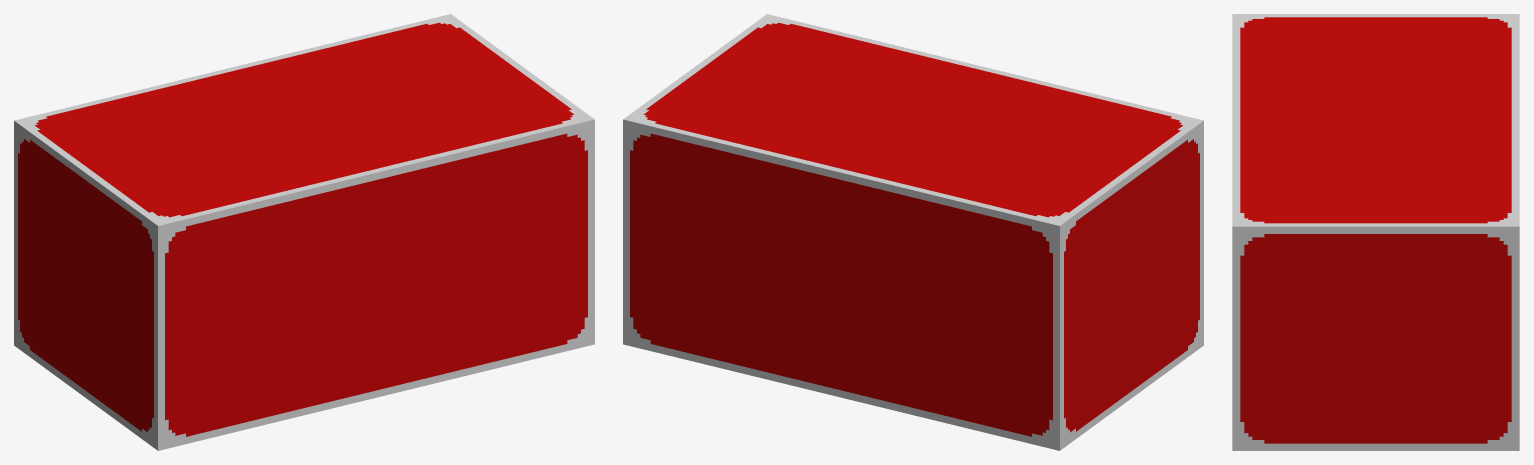
File: house_simple_red_rectangular.glb
The picture shows the model from 3 angles, left to right: view 1: azimuth 30°, elevation 25°; view 2: azimuth 150°, elevation 25°; view 3: azimuth 270°, elevation 25°; orthographic projection.
Parts seen in each view (by area): view 1: house_simple_red_rectangular.001; view 2: house_simple_red_rectangular.001; view 3: house_simple_red_rectangular.001.
Boxes of the visible parts, x1,y1,x2,y2 form: house_simple_red_rectangular.001: (14,14,594,450); house_simple_red_rectangular.001: (623,14,1203,450); house_simple_red_rectangular.001: (1232,14,1519,450).
Bounding box in the file's own units: 12.6 × 6.2 × 7.2.
Materials: 1 (1 with a texture image).
